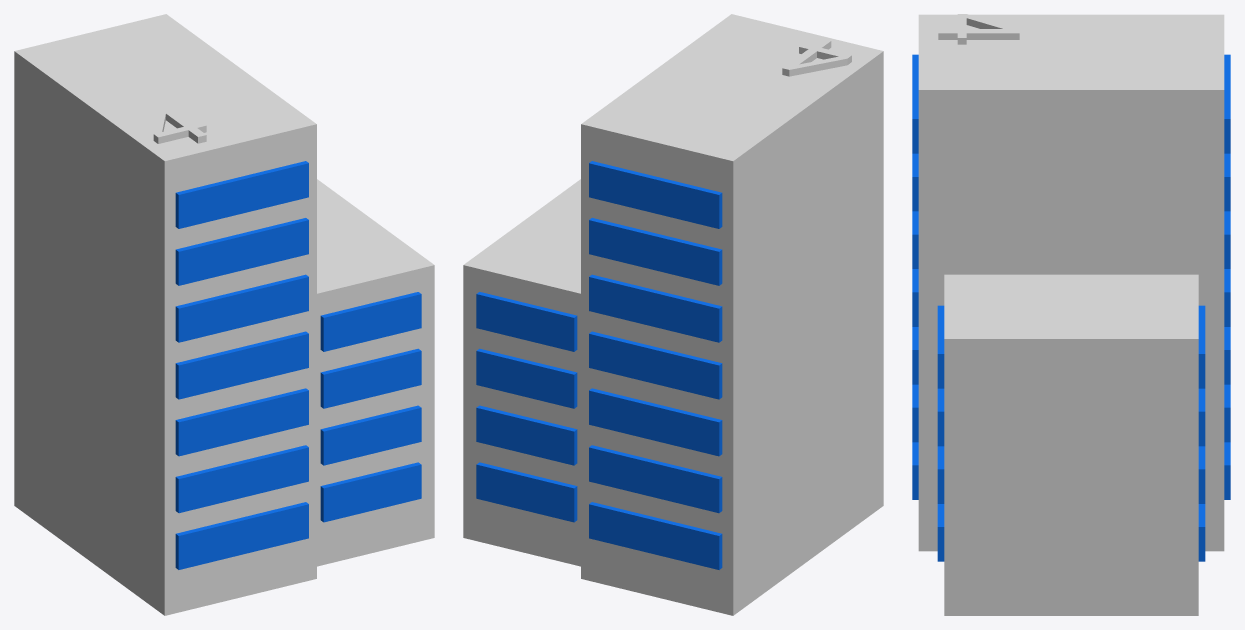
The picture shows the model from 3 angles, left to right: view 1: azimuth 30°, elevation 25°; view 2: azimuth 150°, elevation 25°; view 3: azimuth 270°, elevation 25°; orthographic projection.
Visible parts, largest first — view 1: house, window, 4; view 2: house, window, 4; view 3: house, window, 4.
Boxes of the visible parts, x1,y1,x2,y2 form: house: (14,14,434,615); window: (175,161,421,569); 4: (153,105,206,143); house: (463,14,883,615); window: (476,161,722,569); 4: (782,39,851,76); house: (918,14,1224,615); window: (912,54,1230,561); 4: (938,14,1019,44).
Bounding box in the file's own units: 13 × 20.3 × 12.5.
